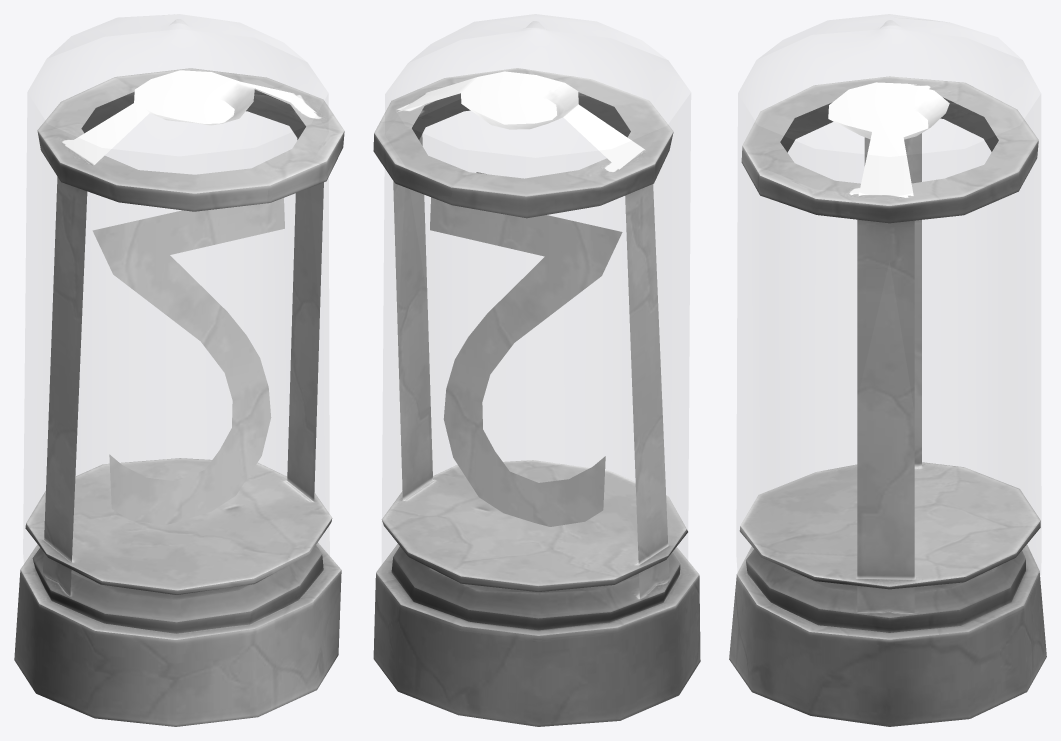
The model's file is obj_num02_easy.gltf.
3 views of the same model, side by side, from view 1: azimuth 30°, elevation 25°; view 2: azimuth 150°, elevation 25°; view 3: azimuth 270°, elevation 25° (orthographic).
Parts seen in each view (by area): view 1: obj_num02_easy, obj_num02_easy_glass; view 2: obj_num02_easy, obj_num02_easy_glass; view 3: obj_num02_easy, obj_num02_easy_glass.
Part boxes in pixels (<box>): obj_num02_easy: <box>14,68,344,726</box>; obj_num02_easy_glass: <box>23,14,329,568</box>; obj_num02_easy: <box>373,68,700,726</box>; obj_num02_easy_glass: <box>382,14,690,571</box>; obj_num02_easy: <box>729,76,1046,726</box>; obj_num02_easy_glass: <box>737,14,1040,574</box>.
Size of what is drawn, in the model's own units: 0.3381 by 0.7176 by 0.3231.
Materials: 2 (1 with a texture image).
